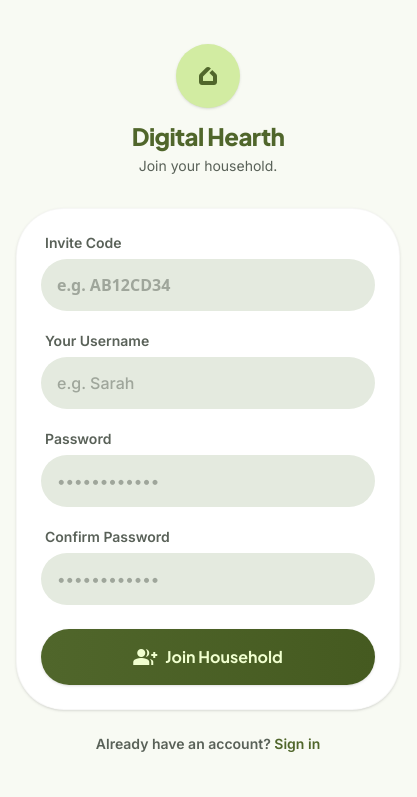
Test: JoinHousehold › shows an expired code error when joinHousehold throws an expired message
In the field labelled "Invite Code": (208, 285) [41,259,375,311], type "AB12CD34"
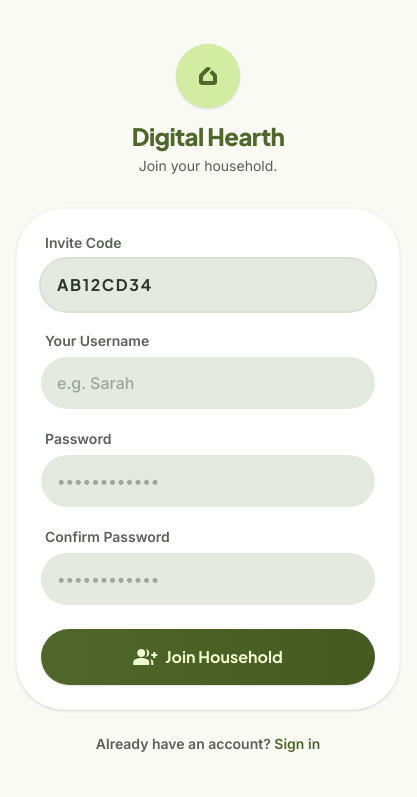
In the field labelled "Your Username": (208, 383) [41,357,375,409], type "Sarah"
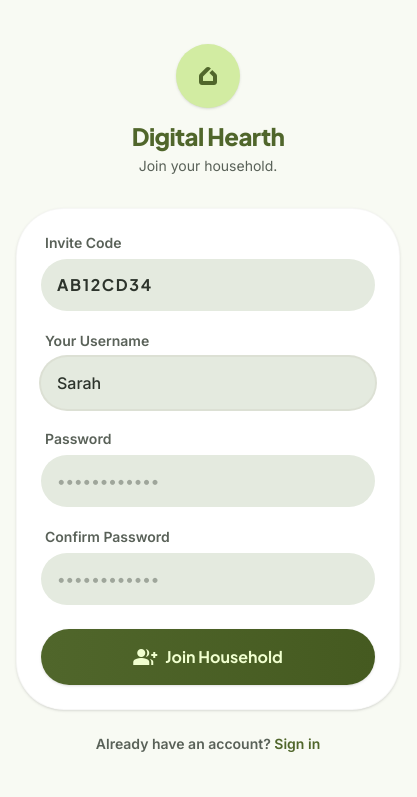
In the password field labelled "Password": (208, 481) [41,455,375,507], type "TestPass1!ab"
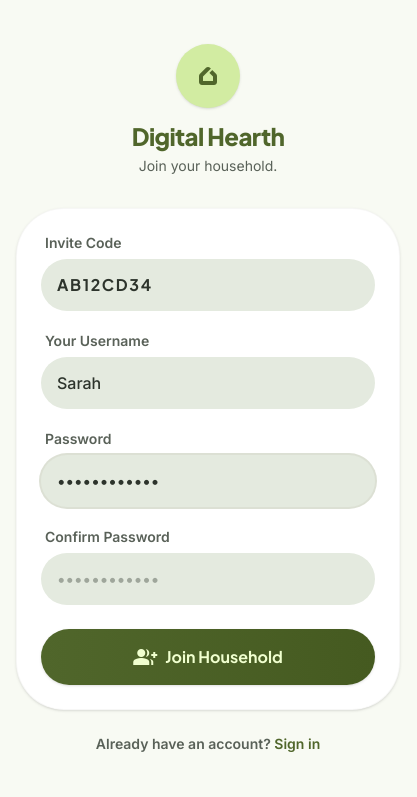
In the password field labelled "Confirm Password": (208, 579) [41,553,375,605], type "TestPass1!ab"
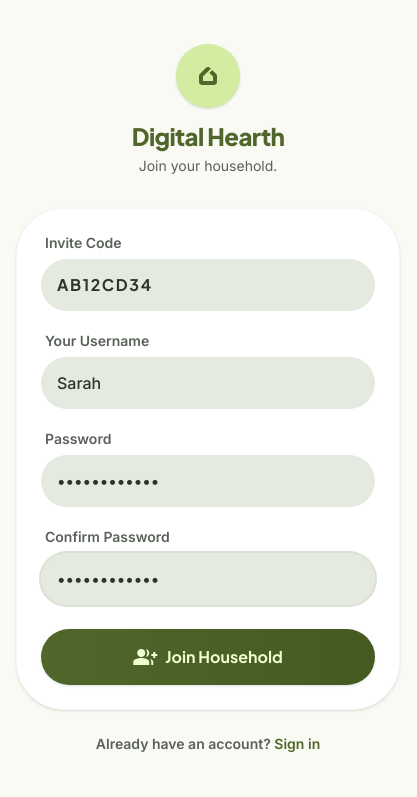
Click the button "Join Household": (208, 657) [41,629,375,685]
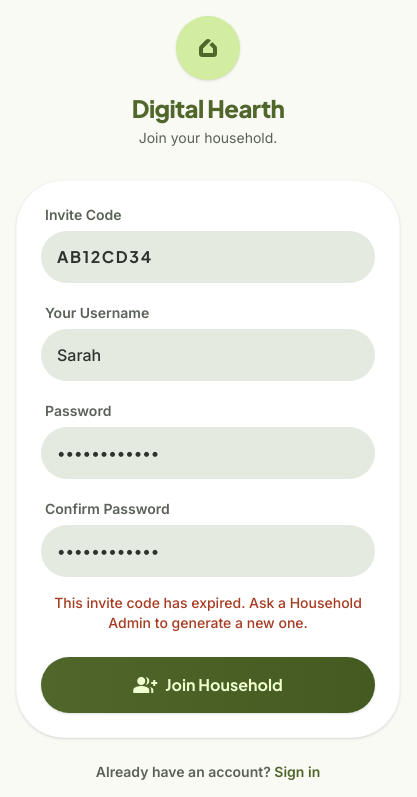
Now the text "invite code has expired" is shown, box [54,594,362,631]
